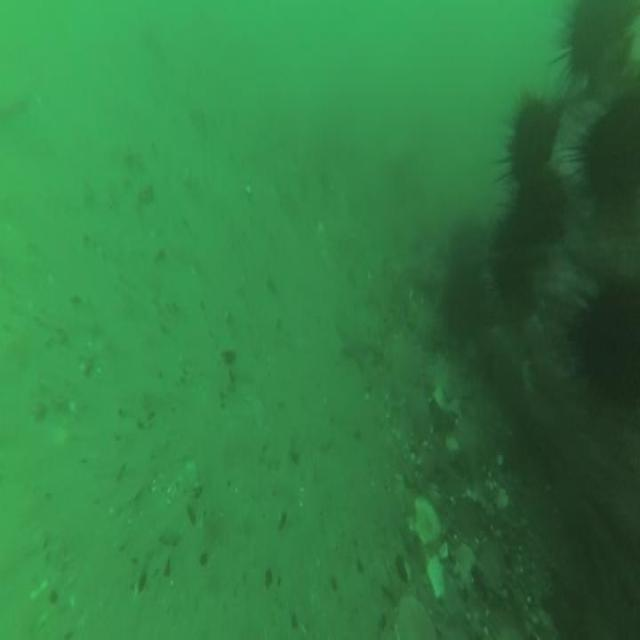echinus: (573, 274, 640, 412), (581, 98, 640, 215), (566, 2, 638, 79), (439, 231, 490, 333), (506, 96, 556, 185), (507, 178, 569, 244), (490, 246, 538, 306)
